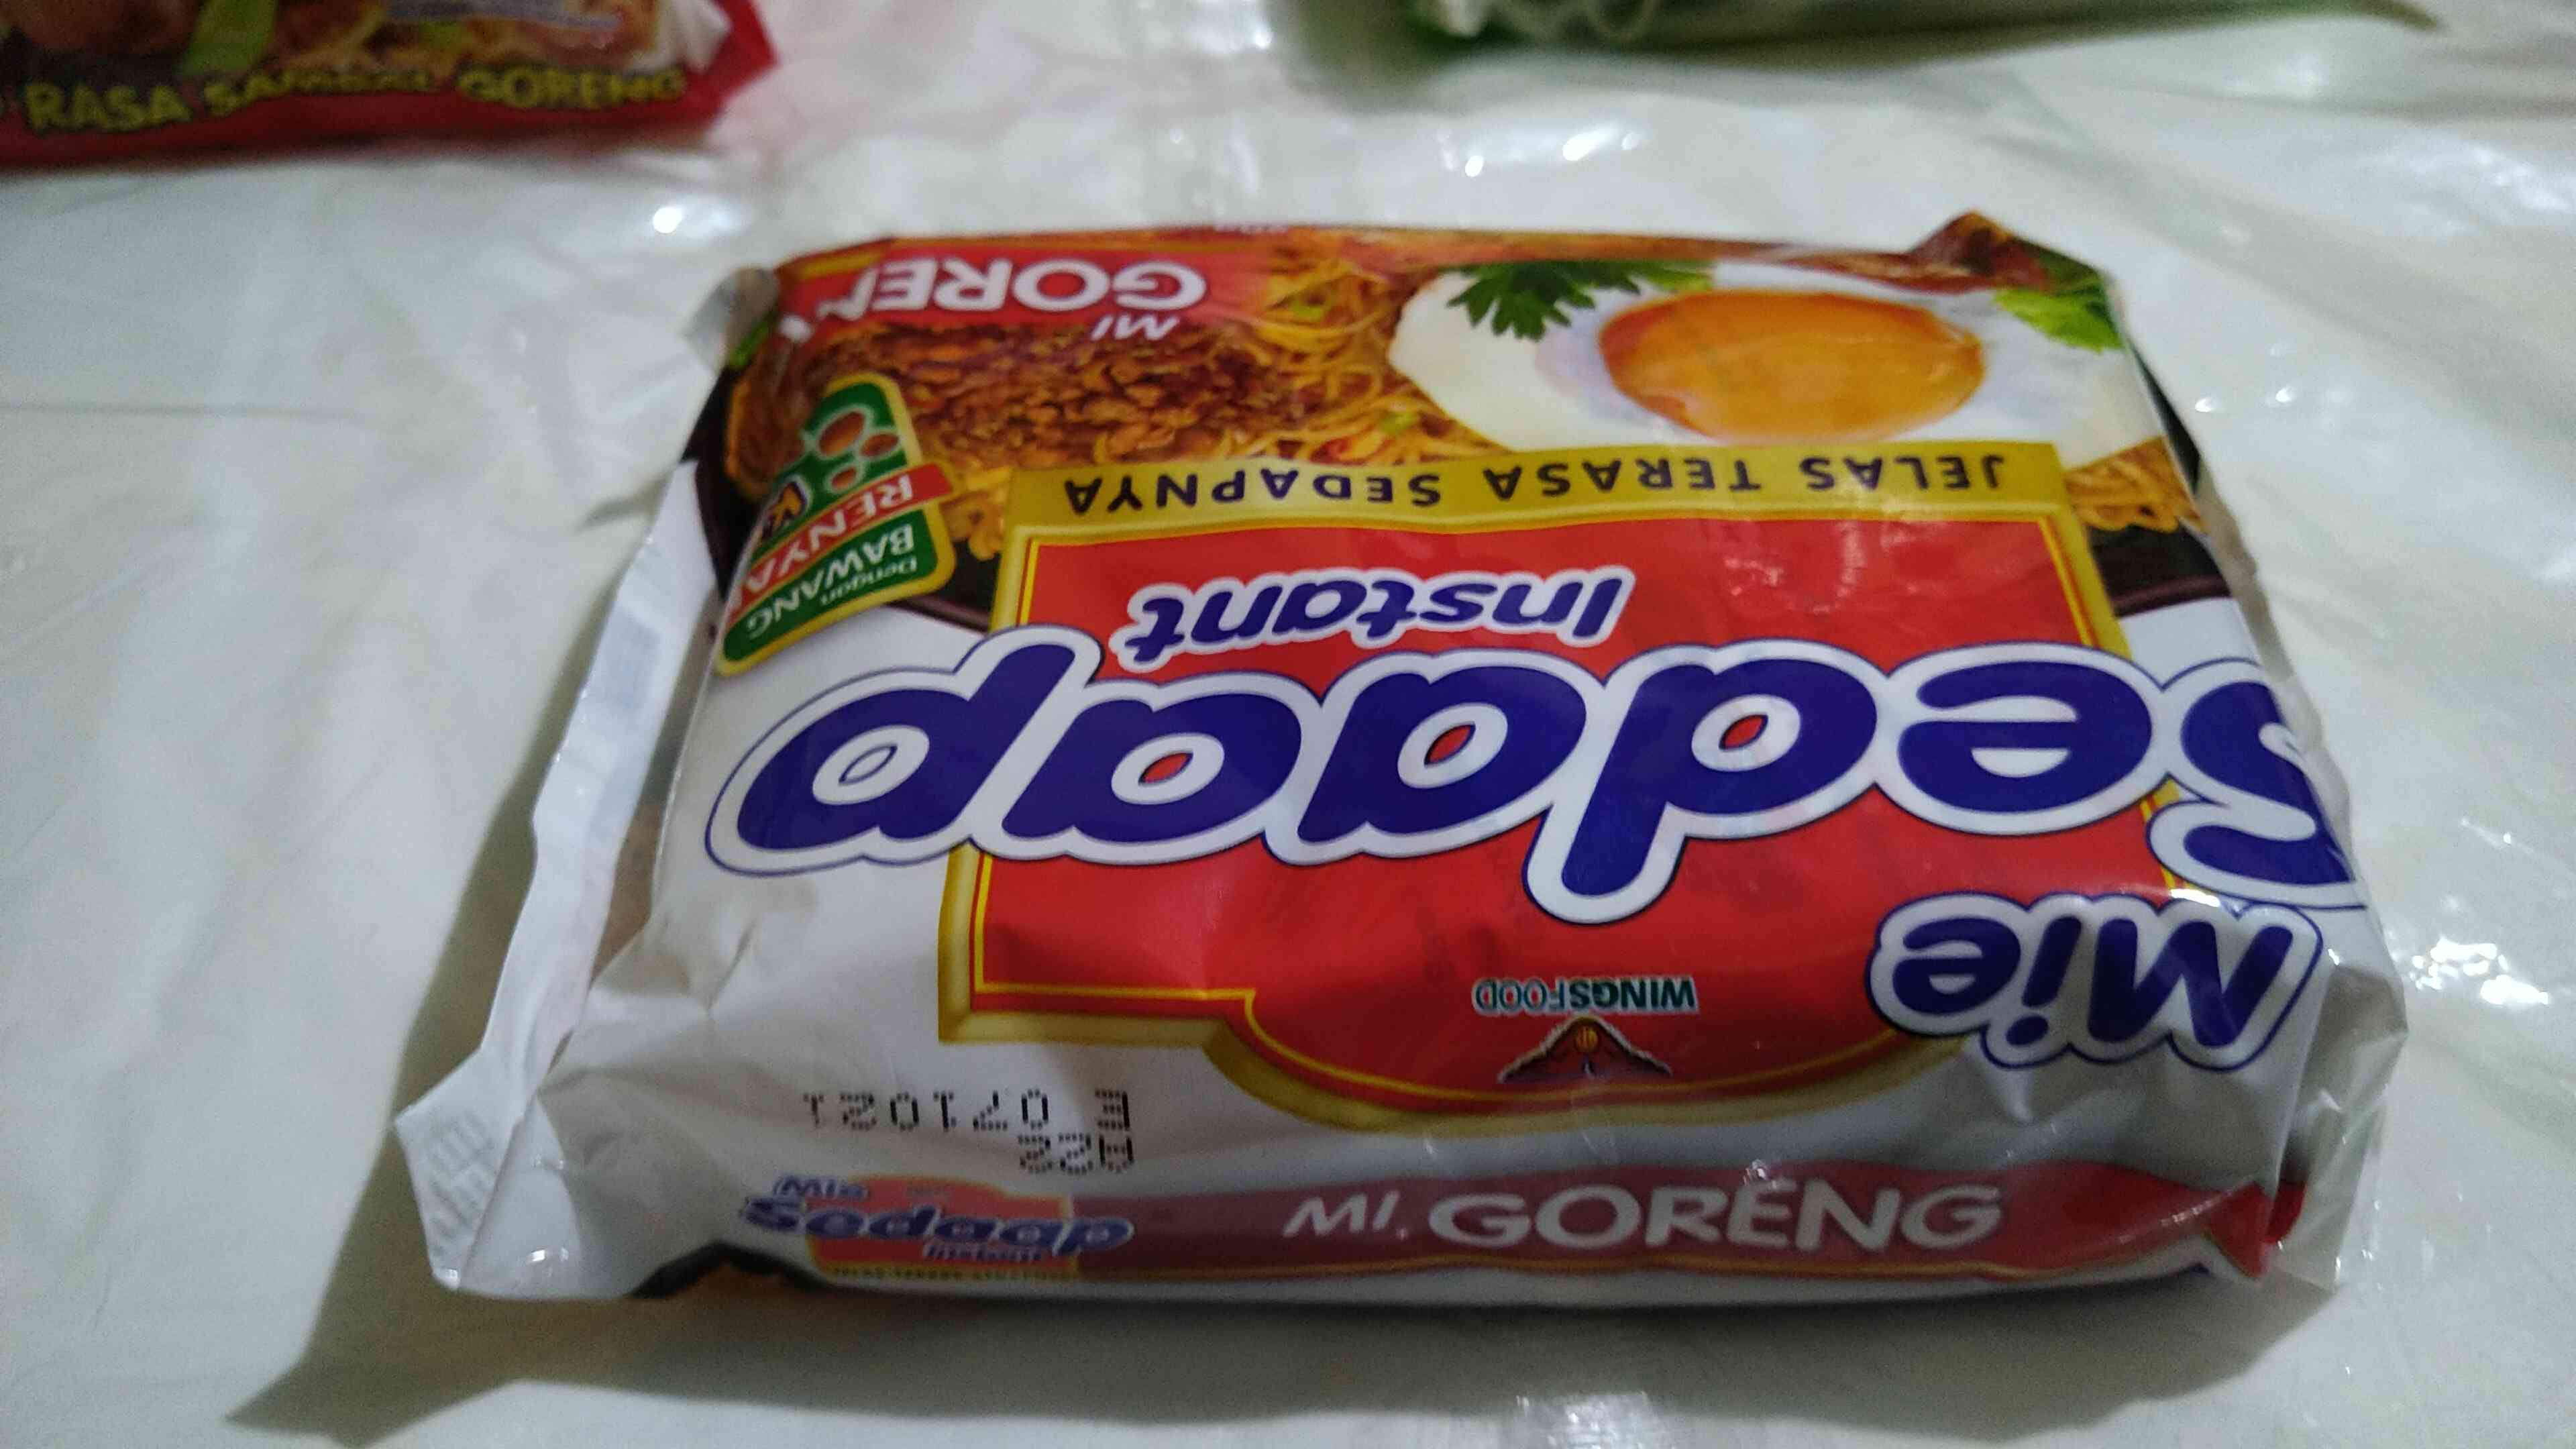sedaap goreng: (396, 216, 2440, 1382)
